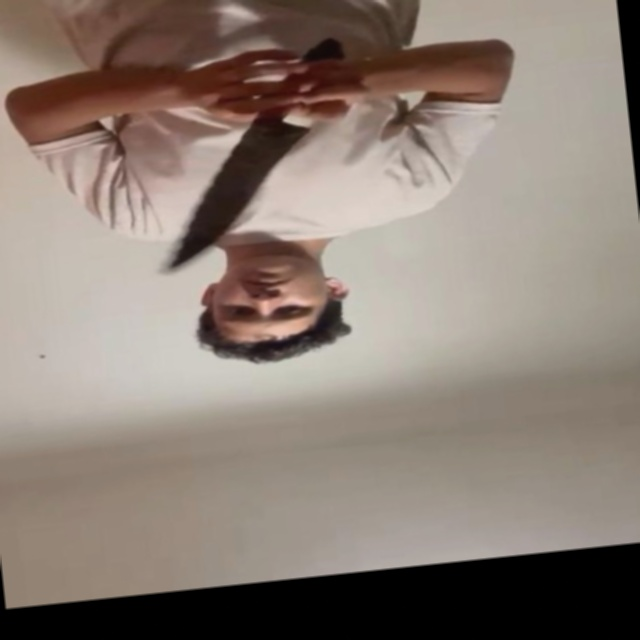Sharp-Object: (153, 119, 327, 269)
